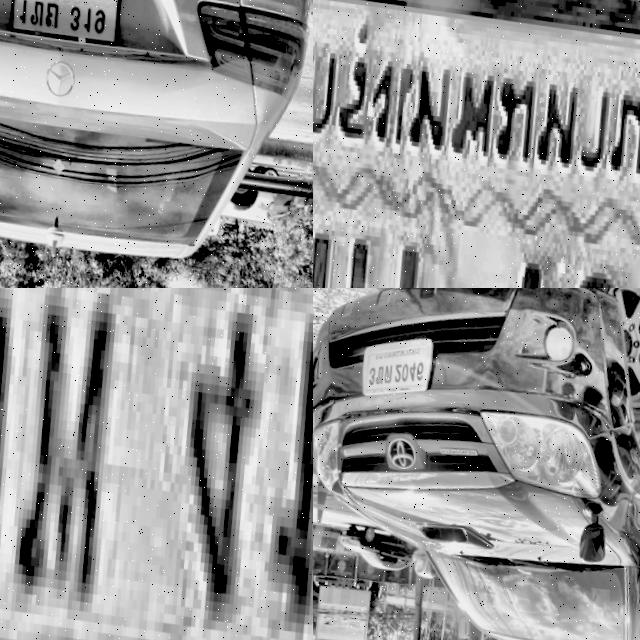license-plate: (0, 288, 313, 640), (313, 0, 640, 288), (355, 325, 434, 403), (3, 0, 128, 46)
